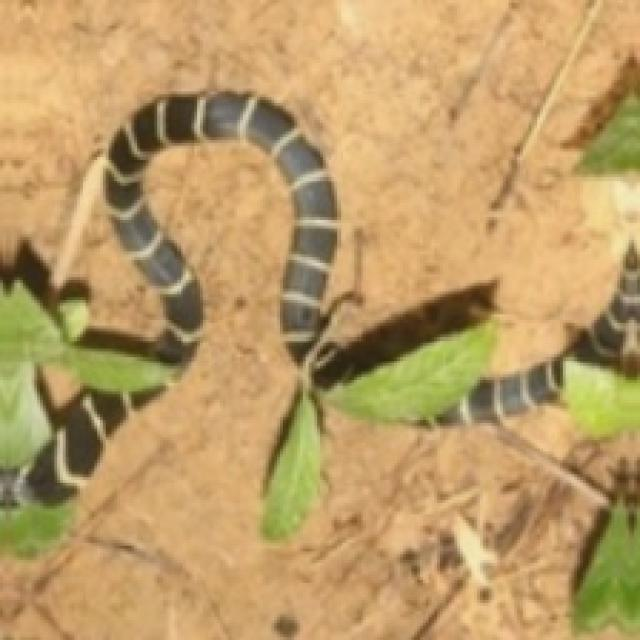king cobra: (0, 91, 637, 554)
